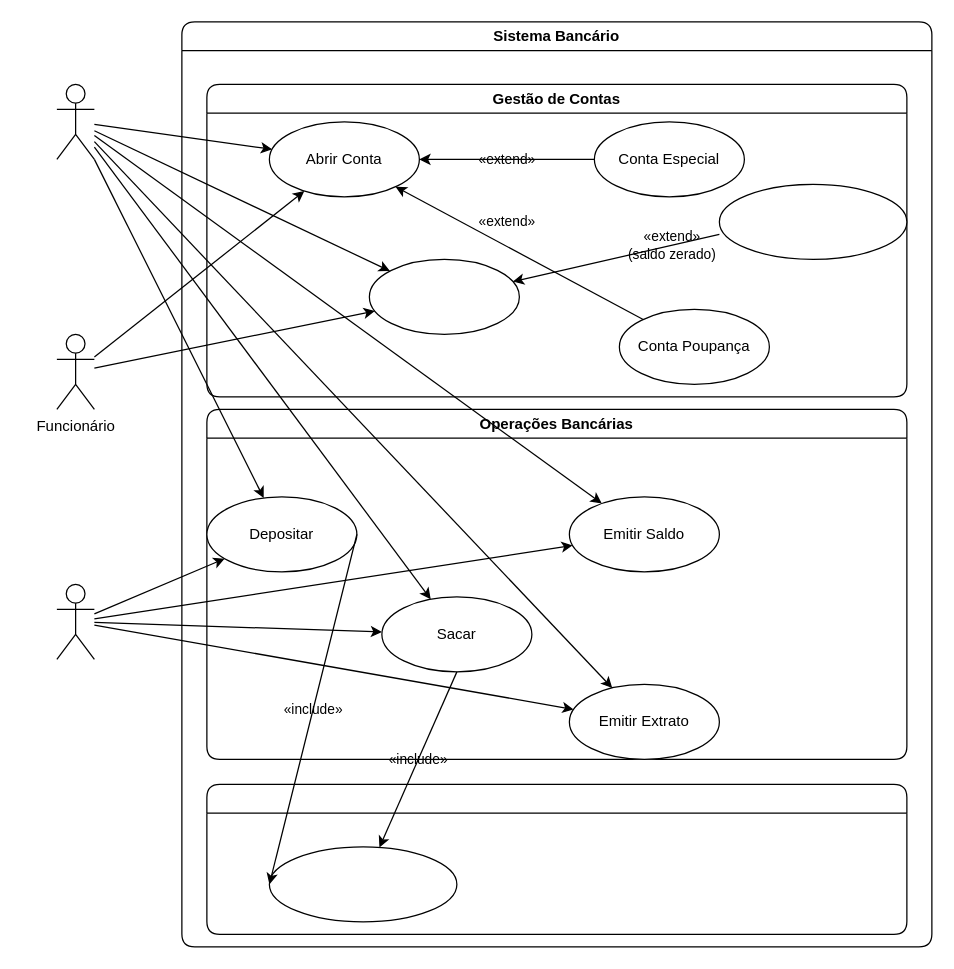
Some shapes in this 954 by 969 pixel diagram are drawn without their labels. The shapes that lost their labels are listed below. From the top down, each one's box as (x1, y1, x2, y2) in pixels, then its label:
(56, 83, 94, 159): Cliente
(718, 183, 907, 259): Verificar Saldo Zero
(368, 258, 519, 334): Encerrar Conta
(56, 583, 94, 659): Caixa Eletrônico
(206, 783, 907, 934): Sistema
(268, 846, 457, 922): Registrar Movimentação
